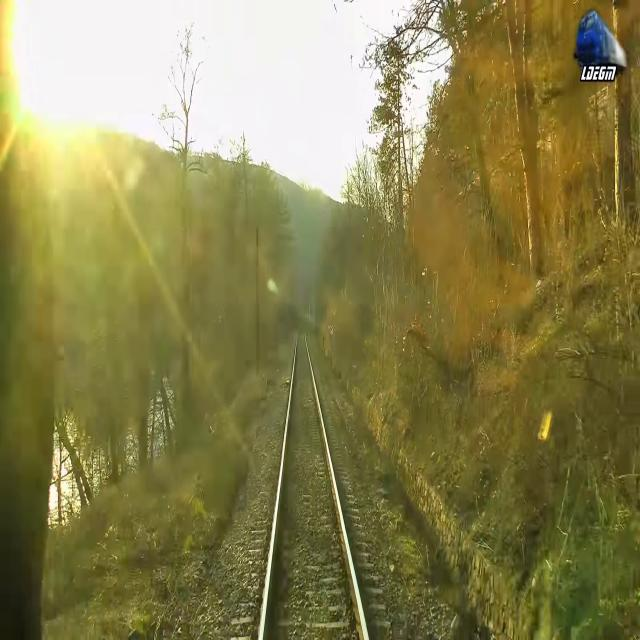rail-track: (264, 328, 364, 639)
